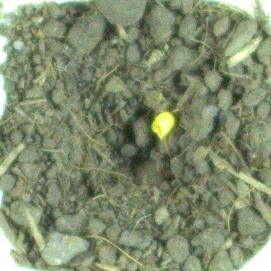pepper seed: (61, 39, 239, 183)
